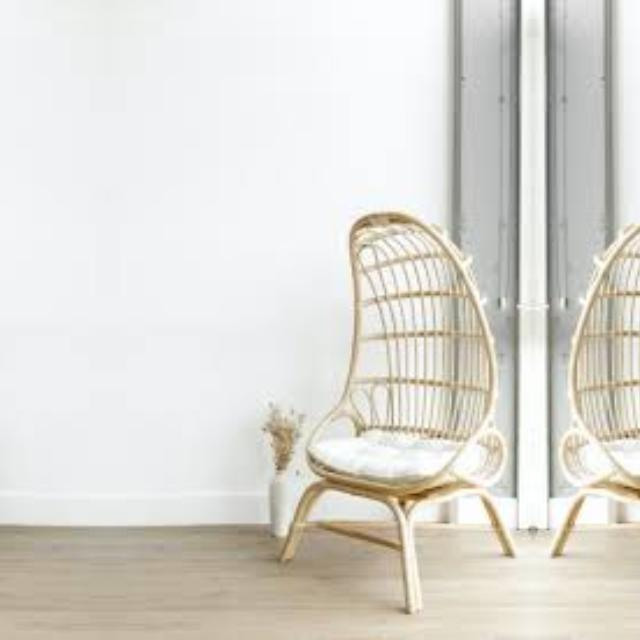obstacle: (258, 142, 522, 640), (543, 142, 640, 640)
